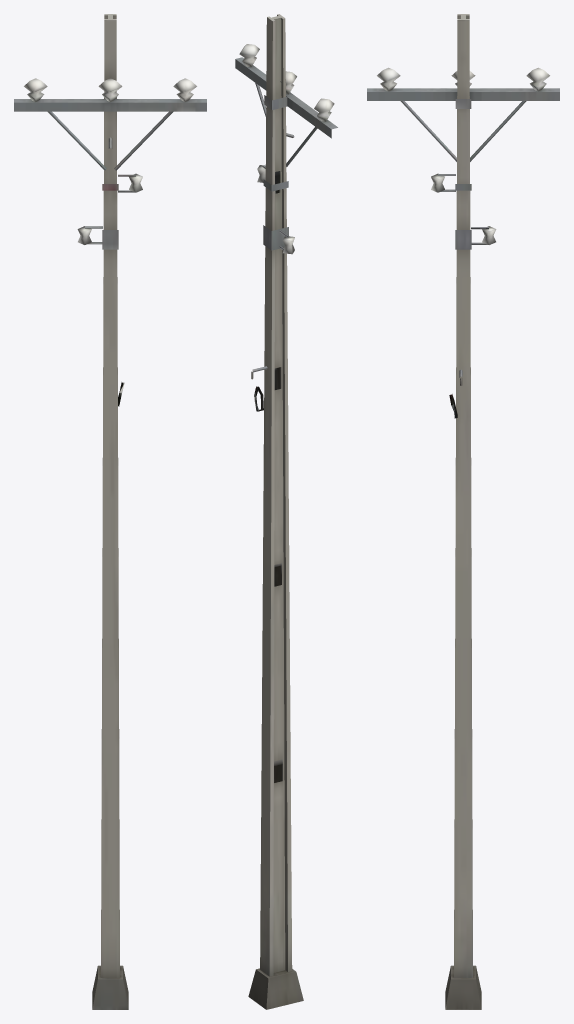
The model's file is pole_psc.glb.
3 views of the same model, side by side, from view 1: azimuth 90°, elevation 25°; view 2: azimuth 210°, elevation 25°; view 3: azimuth 270°, elevation 25° (orthographic).
Visible parts, largest first — view 1: pole_psc; view 2: pole_psc; view 3: pole_psc.
Part boxes in pixels (box(x1,y1,x2,y2)): pole_psc: box(14, 14, 206, 1009); pole_psc: box(235, 14, 337, 1009); pole_psc: box(367, 14, 559, 1009).
Size of the model in its own units: 2.16 by 45 by 8.
1 material, 1 textured.
